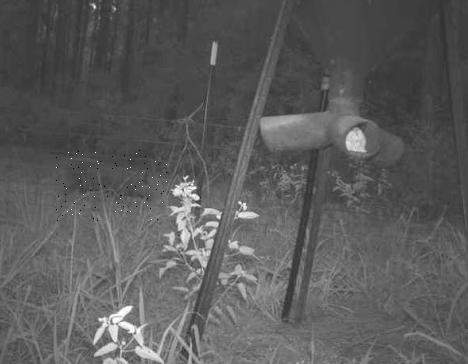Hog: (55, 149, 167, 221)
